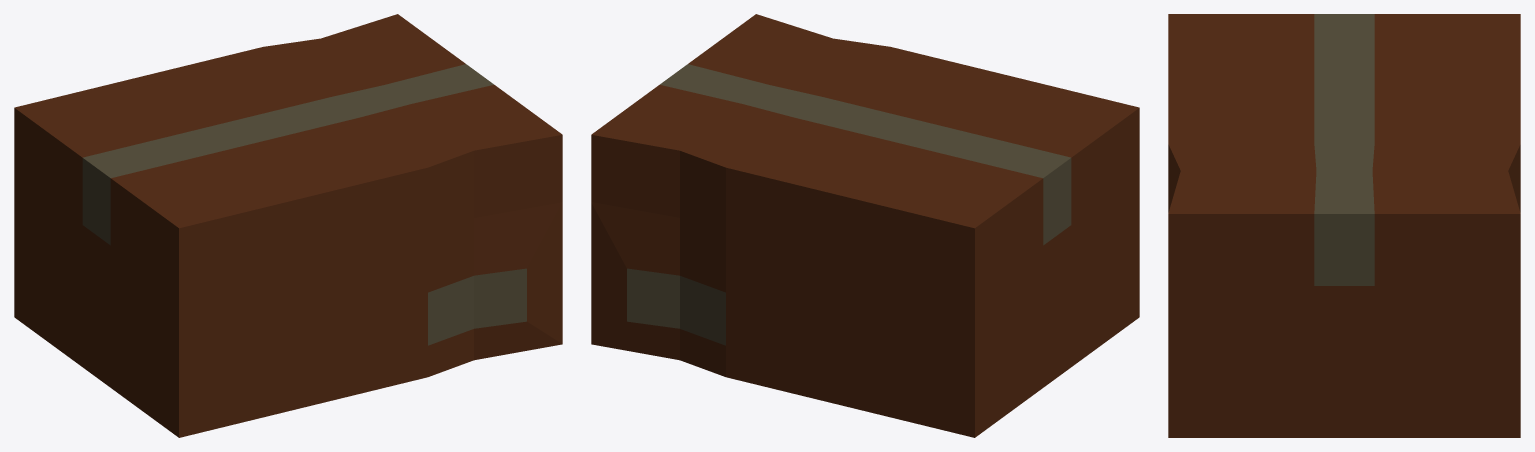
File: CardboardBoxes_1.obj
3 renders of one model, left to right at view 1: azimuth 30°, elevation 25°; view 2: azimuth 150°, elevation 25°; view 3: azimuth 270°, elevation 25°, orthographic. The views are drawn at different scales.
Parts seen in each view (by area): view 1: CardboardBoxes_1_Cube.056; view 2: CardboardBoxes_1_Cube.056; view 3: CardboardBoxes_1_Cube.056.
Part boxes in pixels (x1,y1,x2,y2): CardboardBoxes_1_Cube.056: [14, 14, 562, 437]; CardboardBoxes_1_Cube.056: [591, 14, 1139, 437]; CardboardBoxes_1_Cube.056: [1168, 14, 1520, 437].
Size of the model in its own units: 0.9755 by 0.5093 by 0.7265.
